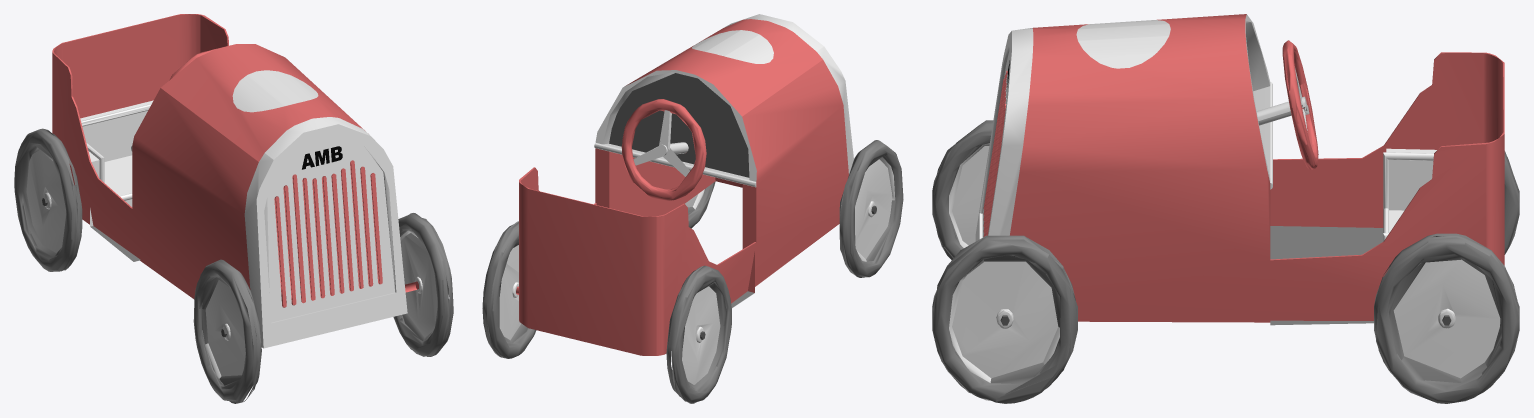
The model's file is ED-JCO-01_1_L6X9.gltf.
3 renders of one model, left to right at view 1: azimuth 30°, elevation 25°; view 2: azimuth 150°, elevation 25°; view 3: azimuth 270°, elevation 25°, orthographic. The views are drawn at different scales.
Visible parts, largest first — view 1: Mesh29_Componente_2_1_Model001, Mesh29_Componente_2_1_Model003, Mesh29_Componente_2_1_Model005, Mesh29_Componente_2_1_Model002, Mesh29_Componente_2_1_Model007, Mesh29_Componente_2_1_Model008, Mesh29_Componente_2_1_Model004; view 2: Mesh29_Componente_2_1_Model001, Mesh29_Componente_2_1_Model003, Mesh29_Componente_2_1_Model005, Mesh29_Componente_2_1_Model006, Mesh29_Componente_2_1_Model007; view 3: Mesh29_Componente_2_1_Model001, Mesh29_Componente_2_1_Model003, Mesh29_Componente_2_1_Model005, Mesh29_Componente_2_1_Model007, Mesh29_Componente_2_1_Model002.
Part boxes in pixels (x1,y1,x2,y2): Mesh29_Componente_2_1_Model001: (52,14,418,307); Mesh29_Componente_2_1_Model003: (26,117,437,378); Mesh29_Componente_2_1_Model005: (14,128,453,403); Mesh29_Componente_2_1_Model002: (80,100,153,200); Mesh29_Componente_2_1_Model007: (232,70,318,112); Mesh29_Componente_2_1_Model008: (302,146,342,169); Mesh29_Componente_2_1_Model004: (90,160,422,323); Mesh29_Componente_2_1_Model001: (516,19,848,355); Mesh29_Componente_2_1_Model003: (499,14,895,384); Mesh29_Componente_2_1_Model005: (482,140,903,403); Mesh29_Componente_2_1_Model006: (609,73,749,177); Mesh29_Componente_2_1_Model007: (692,30,773,63); Mesh29_Componente_2_1_Model001: (983,14,1504,322); Mesh29_Componente_2_1_Model003: (949,14,1500,382); Mesh29_Componente_2_1_Model005: (932,120,1519,403); Mesh29_Componente_2_1_Model007: (1076,20,1170,68); Mesh29_Componente_2_1_Model002: (1383,148,1436,241).
Bounding box in the file's own units: 0.3 × 0.36 × 0.6.
